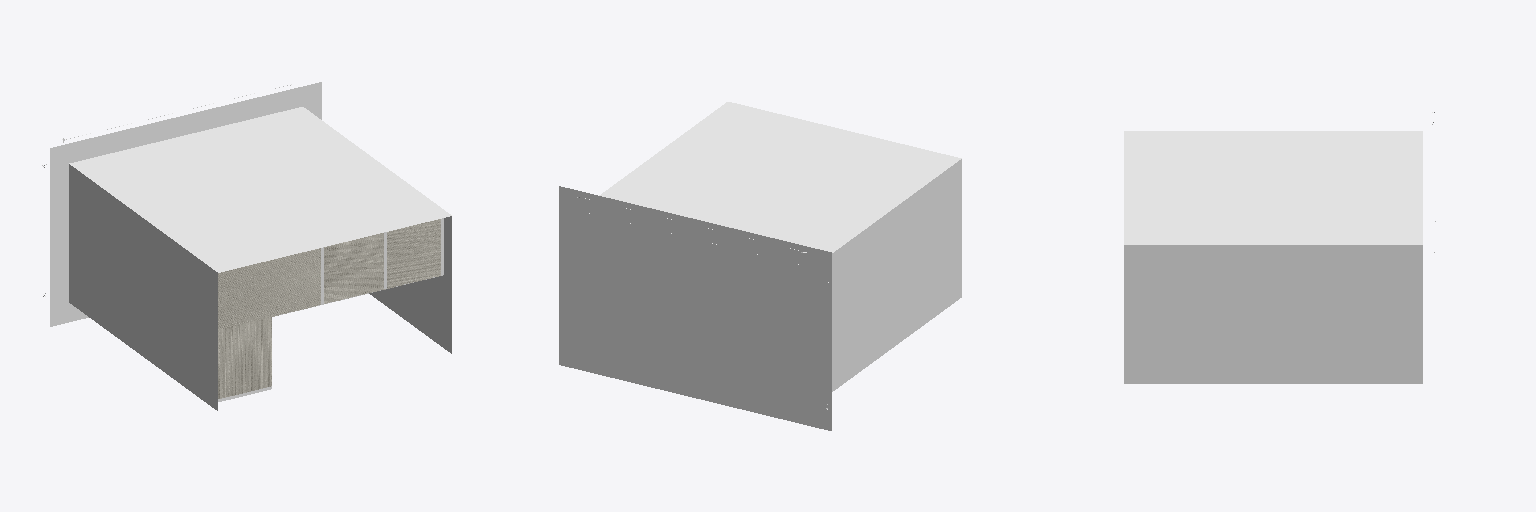
The picture shows the model from 3 angles: view 1: azimuth 30°, elevation 25°; view 2: azimuth 150°, elevation 25°; view 3: azimuth 270°, elevation 25°; orthographic projection.
Visible parts, largest first — view 1: Object_193, Object_195, Object_6, Object_196, Object_194, Object_5, Object_49, Object_169, Object_202; view 2: Object_192, Object_193, Object_195, Object_200, Object_196, Object_198, Object_202; view 3: Object_194, Object_193.
Part boxes in pixels (left/top/right/bottom): Object_193: left=69, top=107, right=451, bottom=272; Object_195: left=69, top=164, right=217, bottom=410; Object_6: left=218, top=248, right=320, bottom=329; Object_196: left=50, top=82, right=321, bottom=162; Object_194: left=369, top=216, right=451, bottom=353; Object_5: left=218, top=317, right=271, bottom=398; Object_49: left=324, top=233, right=383, bottom=303; Object_169: left=387, top=219, right=440, bottom=288; Object_202: left=50, top=149, right=68, bottom=325; Object_192: left=578, top=211, right=812, bottom=406; Object_193: left=589, top=102, right=961, bottom=264; Object_195: left=832, top=159, right=961, bottom=391; Object_200: left=560, top=350, right=830, bottom=430; Object_196: left=560, top=186, right=831, bottom=267; Object_198: left=559, top=186, right=577, bottom=364; Object_202: left=813, top=253, right=831, bottom=430; Object_194: left=1124, top=245, right=1422, bottom=383; Object_193: left=1124, top=131, right=1422, bottom=244.
Bounding box in the file's own units: 2860 × 1797 × 2817.
13 materials, 1 textured.